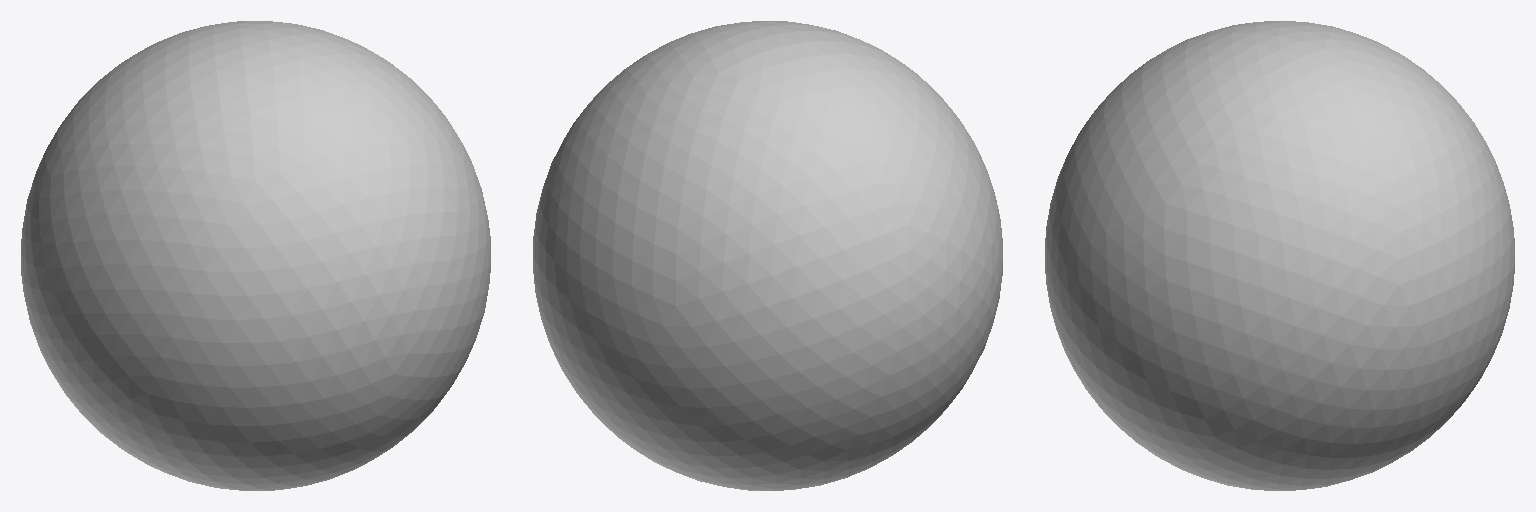
Rendered from yavin.obj.
3 renders of one model, left to right at view 1: azimuth 30°, elevation 25°; view 2: azimuth 150°, elevation 25°; view 3: azimuth 270°, elevation 25°, orthographic.
Visible parts, largest first — view 1: GeoSphere03; view 2: GeoSphere03; view 3: GeoSphere03.
Part boxes in pixels (bbox=[...]): GeoSphere03: bbox=[21, 21, 490, 490]; GeoSphere03: bbox=[533, 21, 1002, 490]; GeoSphere03: bbox=[1045, 21, 1514, 490].
Bounding box in the file's own units: 114 × 114 × 114.